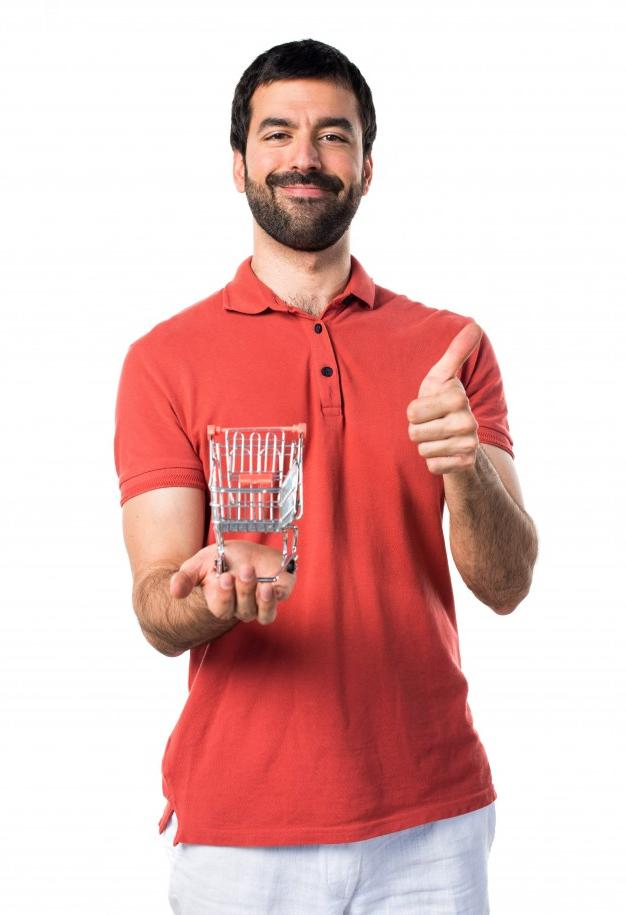thumbsup: (406, 324, 482, 475)
